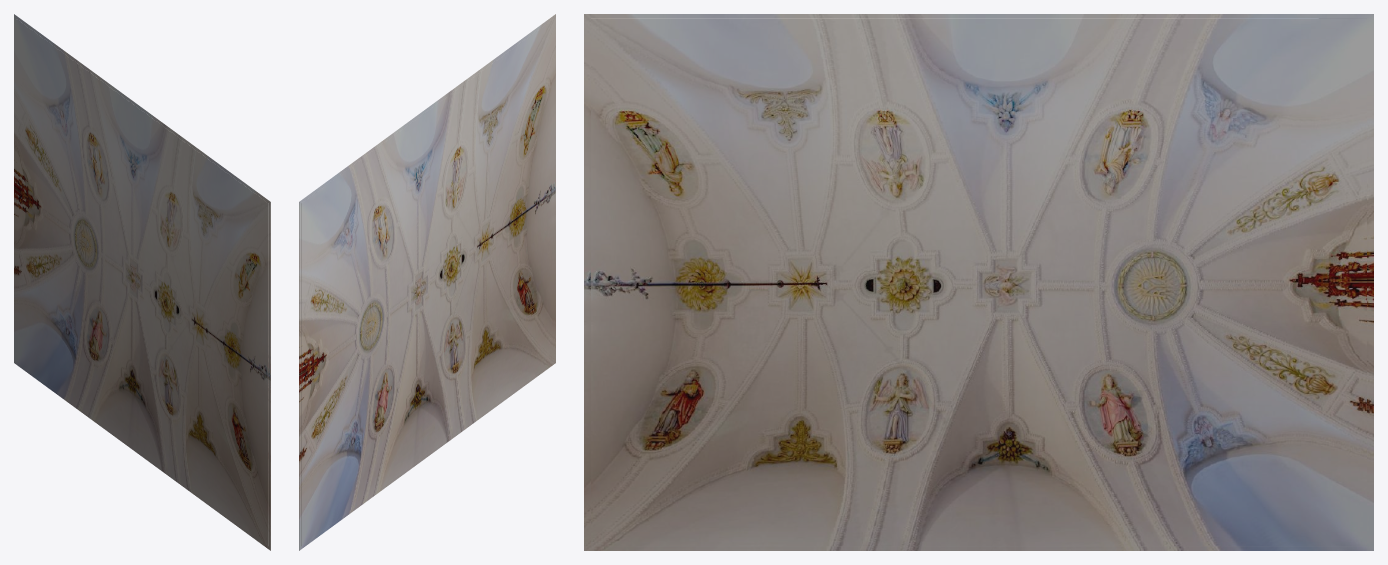
Rendered from 71 - Dekoracja plastyczna sklepienia prezbiterium.glb.
3 renders of one model, left to right at view 1: azimuth 30°, elevation 25°; view 2: azimuth 150°, elevation 25°; view 3: azimuth 270°, elevation 25°, orthographic. The views are drawn at different scales.
Visible parts, largest first — view 1: Plane; view 2: Plane; view 3: Plane.
Part boxes in pixels (<box>): Plane: <box>14,14,270,550</box>; Plane: <box>299,14,555,550</box>; Plane: <box>584,14,1373,550</box>.
Size of the model in its own units: 0.0246 by 24 by 32.
Materials: 1 (1 with a texture image).
